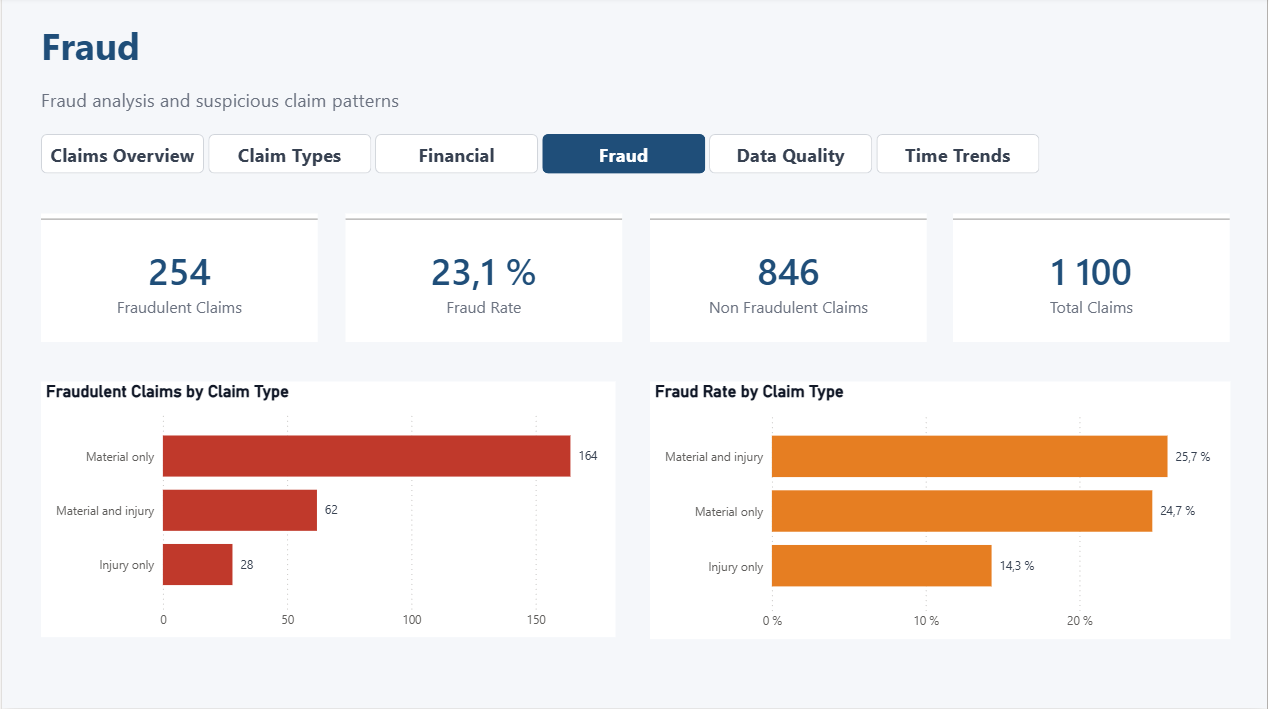

Layout of this report page (visuals, bound fields, positions):
{"tool":"powerbi","page":{"name":"Fraud","canvas":[1280,720],"ordinal":3},"visuals":[{"type":"textbox","box":[40,25,800,70],"z":0},{"type":"textbox","box":[40,92,600,26],"z":1000},{"type":"pageNavigator","box":[40,140,1010,40],"z":2000},{"type":"cardVisual","fields":{"Data":["_measures.Fraudulent Claims"]},"box":[40,220,280.1,130.2],"z":3000},{"type":"cardVisual","fields":{"Data":["_measures.Fraud Rate"]},"box":[347.7,219.6,280.1,130.2],"z":4000},{"type":"cardVisual","fields":{"Data":["_measures.Non Fraudulent Claims"]},"box":[655.4,219.6,280.1,130.2],"z":5000},{"type":"cardVisual","fields":{"Data":["_measures.Total Claims"]},"box":[963,219.6,280.1,130.2],"z":6000},{"type":"clusteredBarChart","title":"Fraudulent Claims by Claim Type","fields":{"Category":["claims_clean.claim_type"],"Y":["_measures.Fraudulent Claims"]},"box":[39.4,390.7,581.5,258.9],"z":7000},{"type":"clusteredBarChart","title":"Fraud Rate by Claim Type","fields":{"Category":["claims_clean.claim_type"],"Y":["_measures.Fraud Rate"]},"box":[655.7,390.7,587.5,260.4],"z":8000}]}

Visuals, with their boxes in screenshot pixels (x1, y1, x2, y2), scaled from the page's 1280x720 canvas onto the 1269x709 screenshot:
textbox: pyautogui.locateOnScreen(40, 25, 833, 94)
textbox: pyautogui.locateOnScreen(40, 91, 634, 116)
pageNavigator: pyautogui.locateOnScreen(40, 138, 1041, 177)
cardVisual - _measures.Fraudulent Claims: pyautogui.locateOnScreen(40, 217, 317, 345)
cardVisual - _measures.Fraud Rate: pyautogui.locateOnScreen(345, 216, 622, 344)
cardVisual - _measures.Non Fraudulent Claims: pyautogui.locateOnScreen(650, 216, 927, 344)
cardVisual - _measures.Total Claims: pyautogui.locateOnScreen(955, 216, 1232, 344)
"Fraudulent Claims by Claim Type" clusteredBarChart: pyautogui.locateOnScreen(39, 385, 616, 640)
"Fraud Rate by Claim Type" clusteredBarChart: pyautogui.locateOnScreen(650, 385, 1233, 641)
